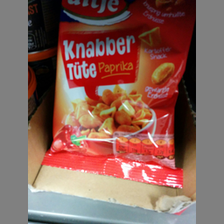nuts: (47, 2, 193, 189)
